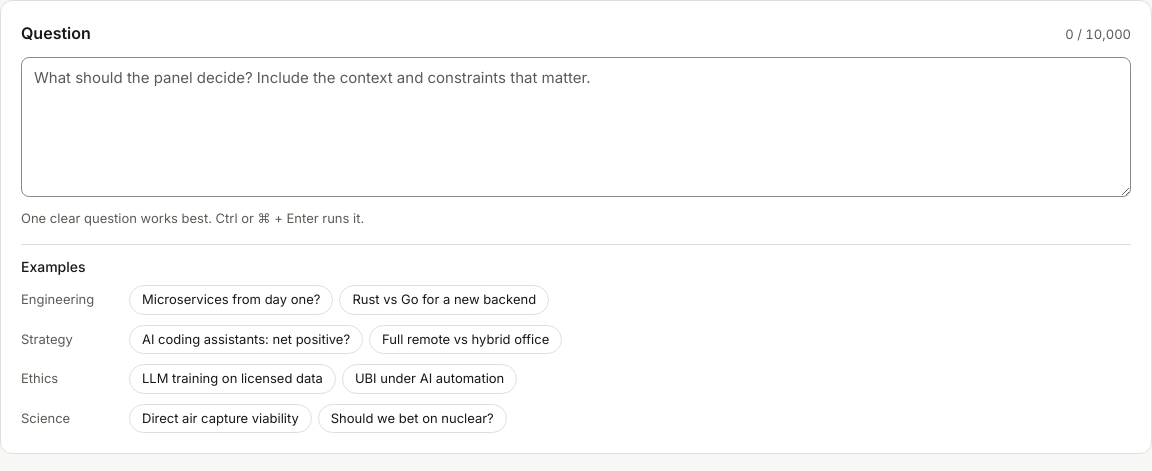
it: QuestionEditor › binds the textarea to the store prompt and counts characters
Expected: the heading "Question" is shown, [21,21,91,45]
Expected: the text "0 / 10,000" is shown, [1065,25,1131,44]
Replace the text in the text box labelled "Question" with "Should we ship?". click: (576, 127)
box: [21,57,1131,197]
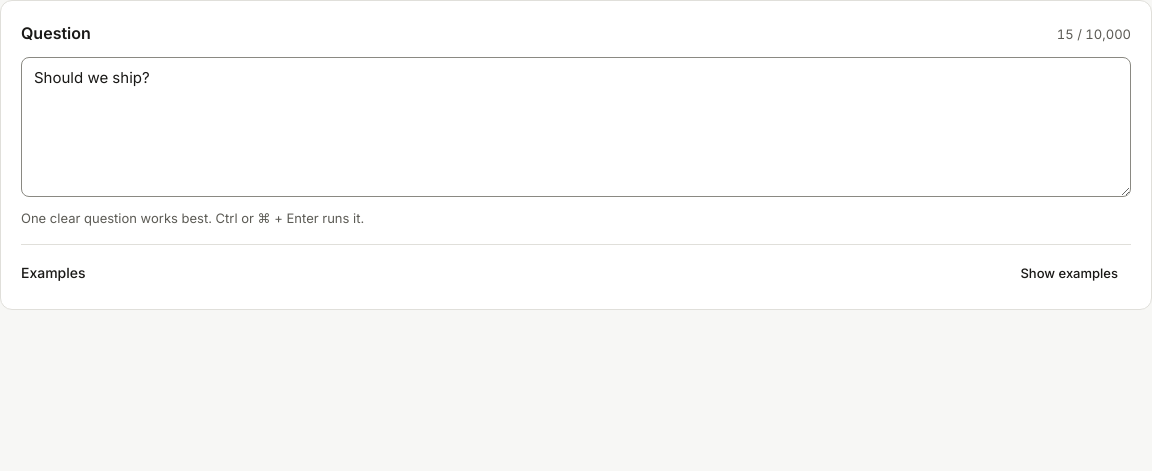
Now the text "15 / 10,000" is shown, box [1057,25,1131,44]
